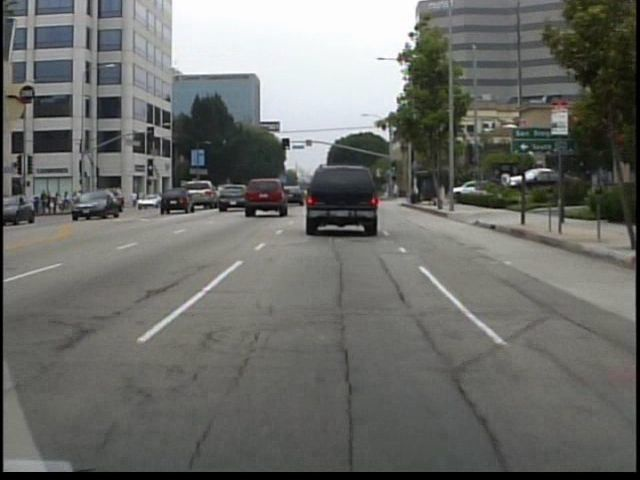person: (390, 182, 401, 203), (131, 188, 140, 209)
